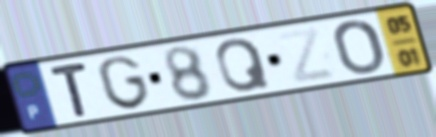8: (163, 44, 214, 103)
G: (95, 53, 154, 111)
O: (331, 18, 388, 77)
Q: (214, 37, 274, 95)
T: (46, 60, 91, 119)
Z: (274, 24, 340, 86)
